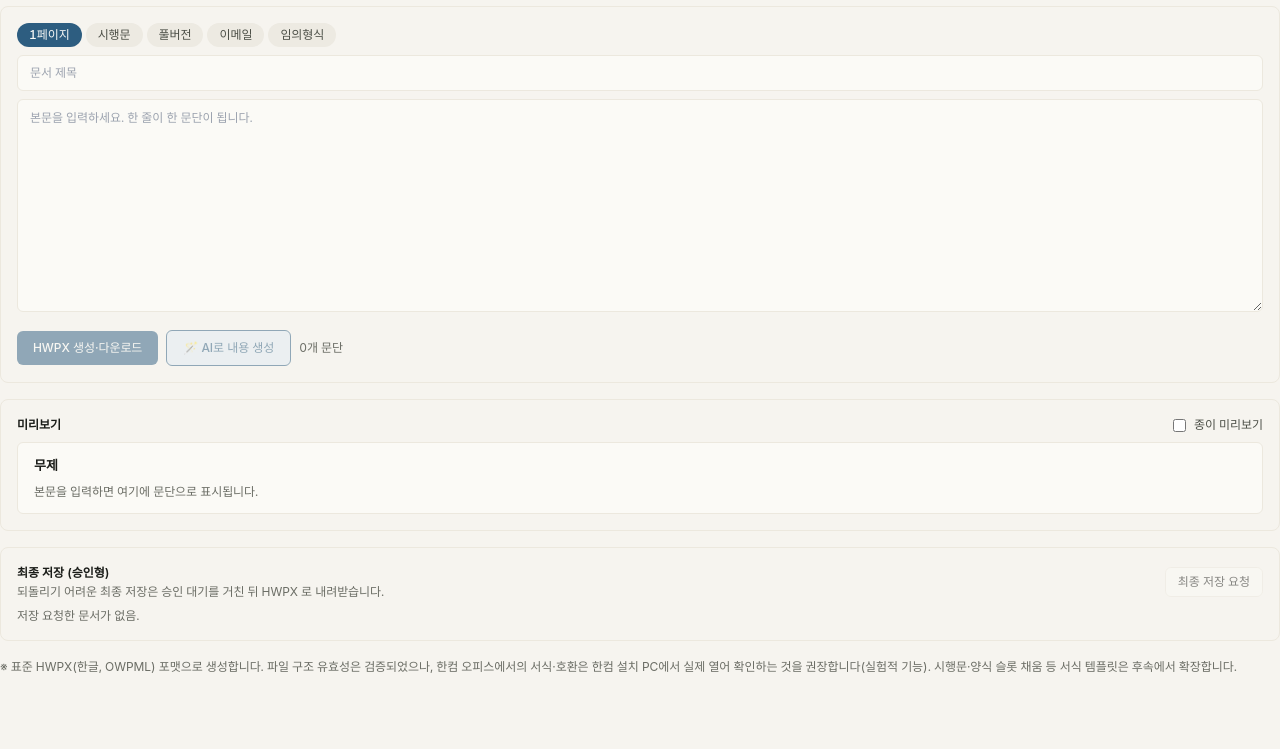
DocumentPanel — 종이 미리보기(G005) › 빠르게 연속으로 변경하면 늦게 도착한 이전 미리보기 응답이 최신 렌더를 덮어쓰지 않는다(M1)
The width and height of the screenshot is (1280, 749).
Click the checkbox labelled "종이 미리보기".
click(1180, 425)  # box [1173,418,1186,432]
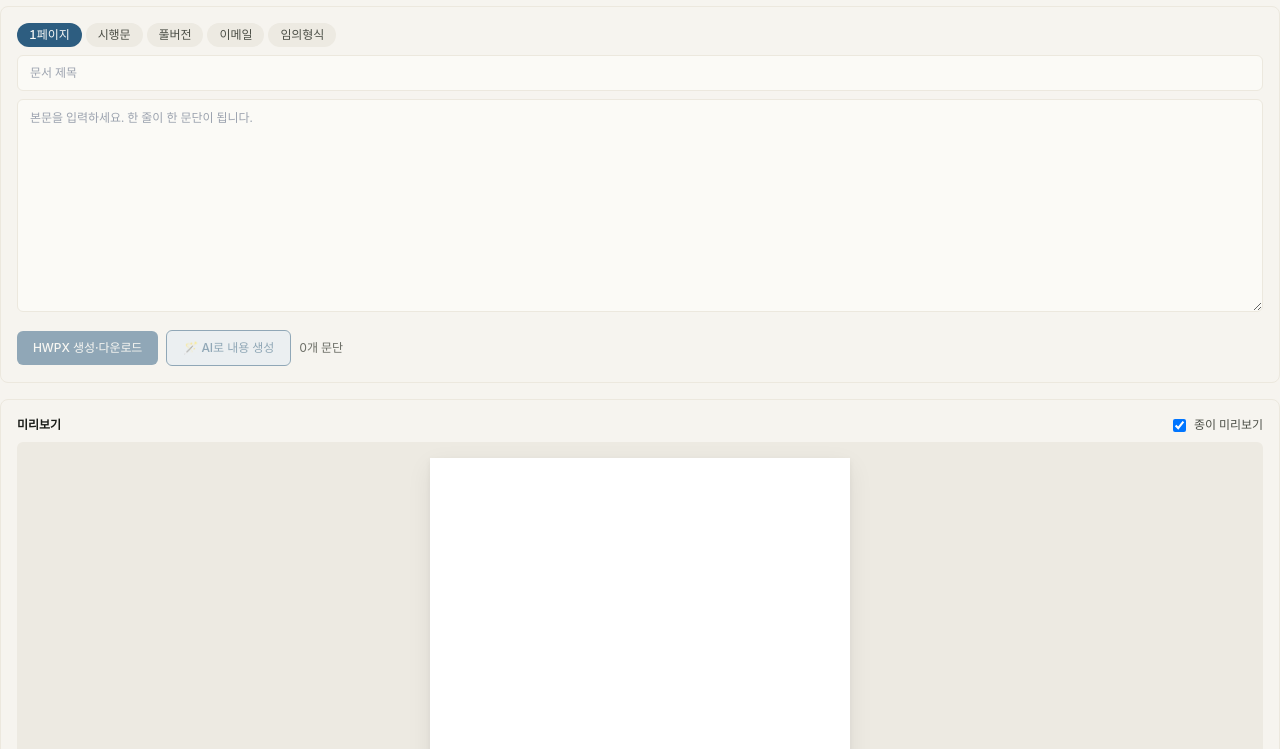
Type "첫 번째" into the text box with placeholder "본문을 입력하세요. 한 줄이 한 문단이 됩니다.".
click(640, 206); type("첫 번째")  # box [17,99,1263,312]
Wait 500 ms
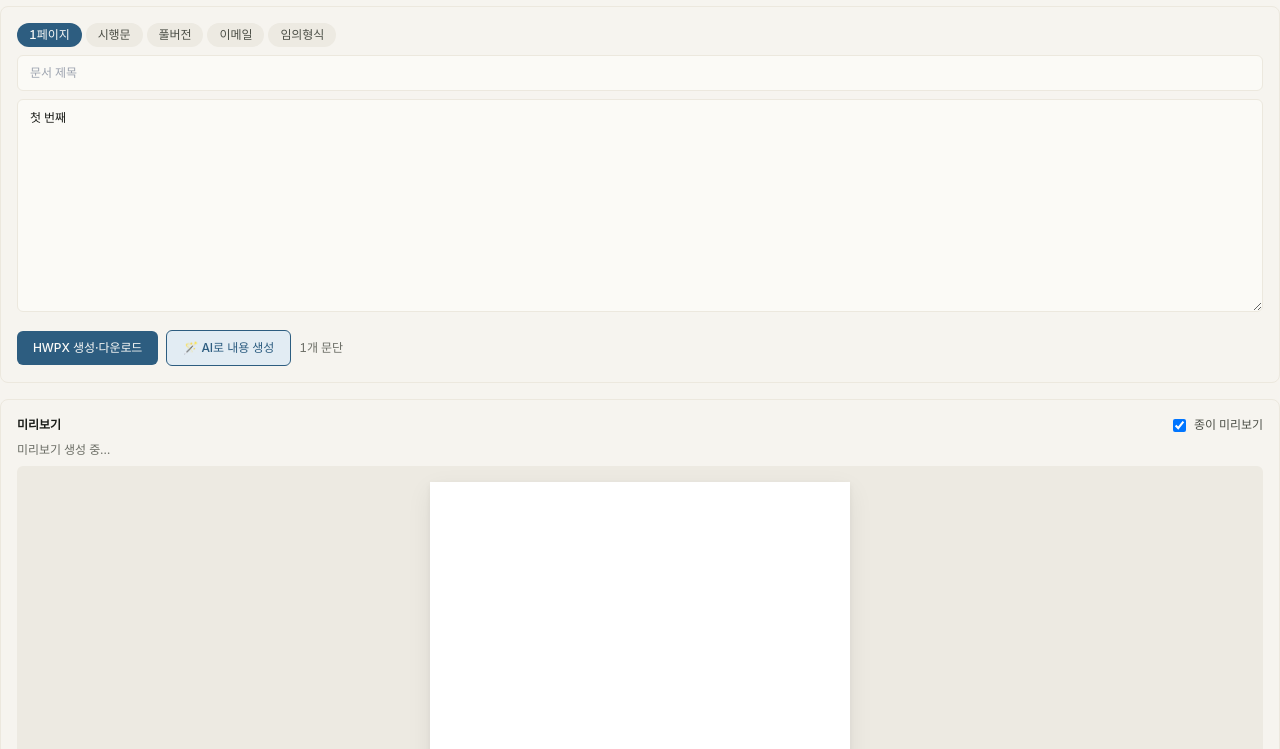
Replace the text in the text box with placeholder "본문을 입력하세요. 한 줄이 한 문단이 됩니다." with "두 번째" at (640, 206), box [17,99,1263,312]
Wait 500 ms
(page scrolled)
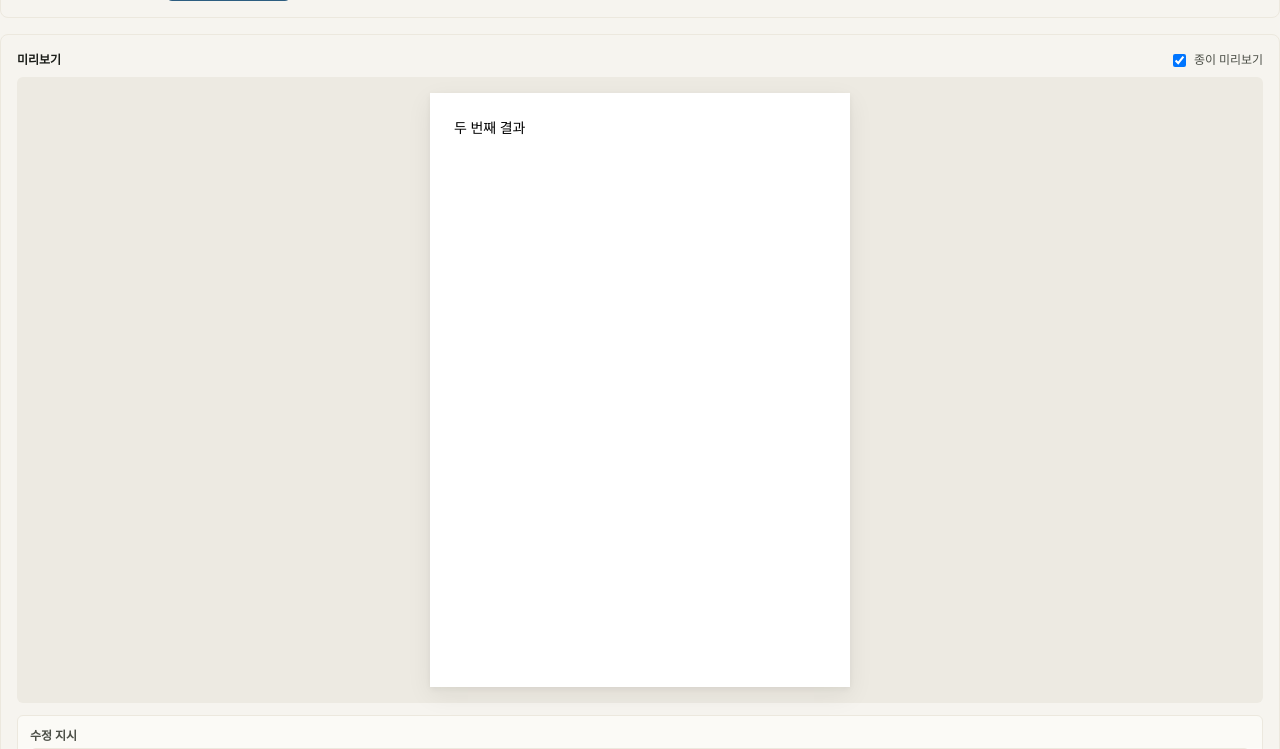
Expected: the element with test id "paper-preview" reads "두 번째 결과", [454,119,525,136]
